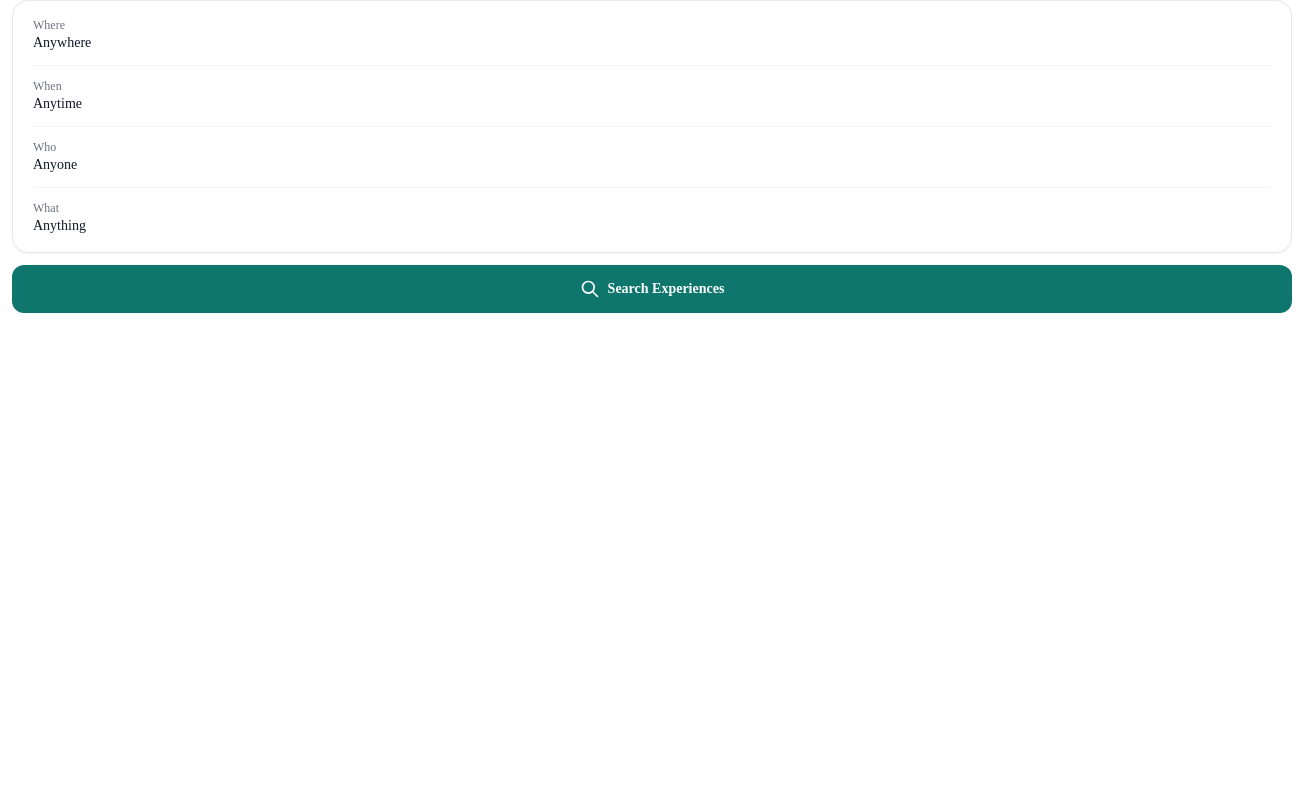
Scenario: ProductDiscoverySearch › dropdown visibility › closes dropdown when clicking outside
Click the button "Where Anywhere" at (49, 25), box [17,5,1287,65]
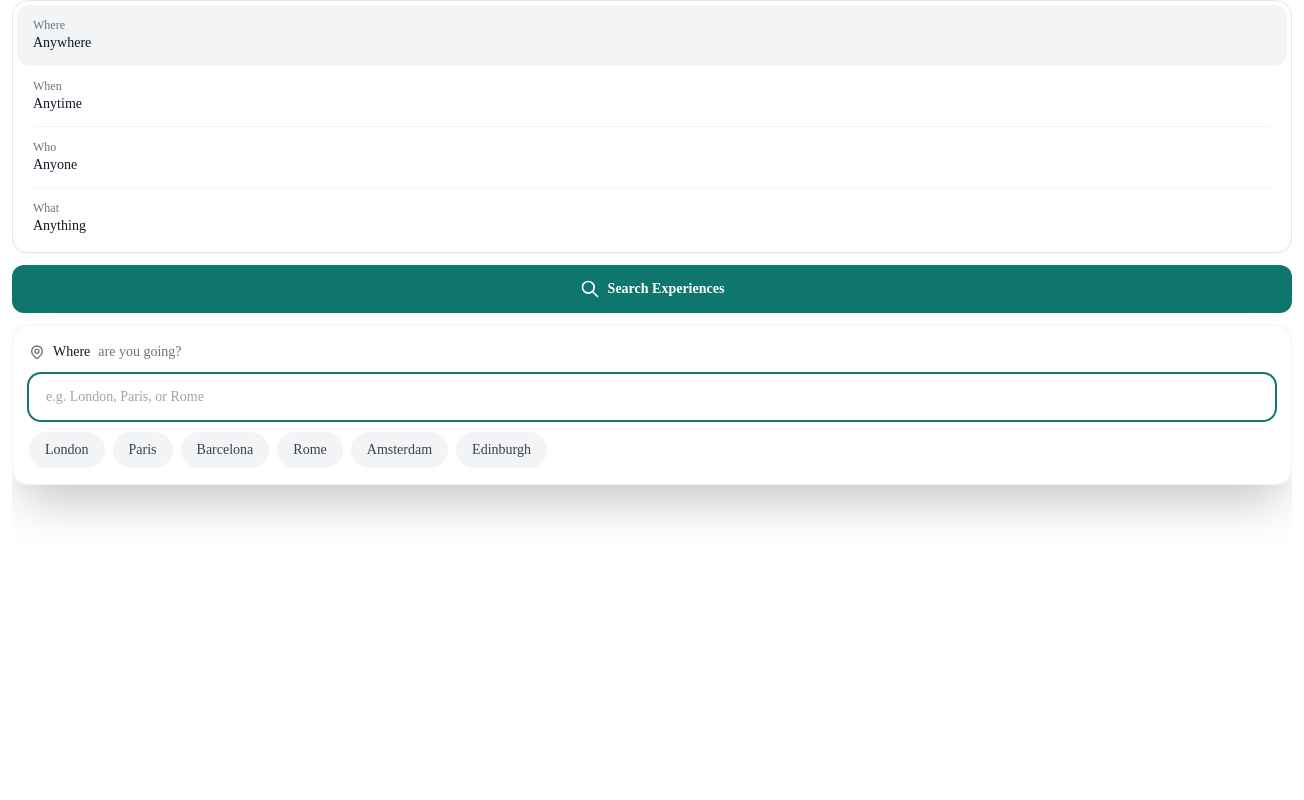
Check: the text "are you going?" is shown, box [98,342,182,362]
Press the mouse on the element that starts with "Where" at (652, 400), box [12,0,1292,799]
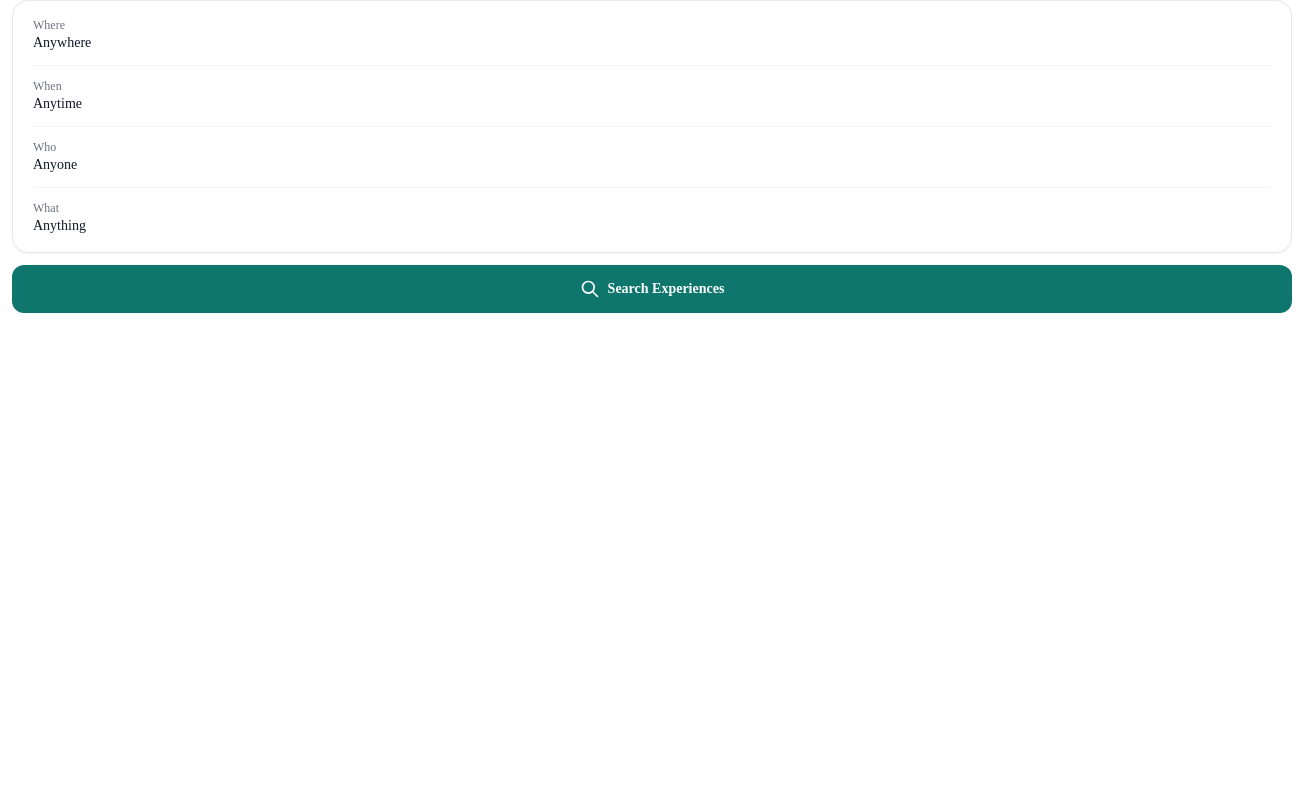
Check: the text "are you going?" is gone
